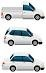car: (2, 33, 46, 72), (5, 46, 44, 72), (5, 27, 40, 42)
